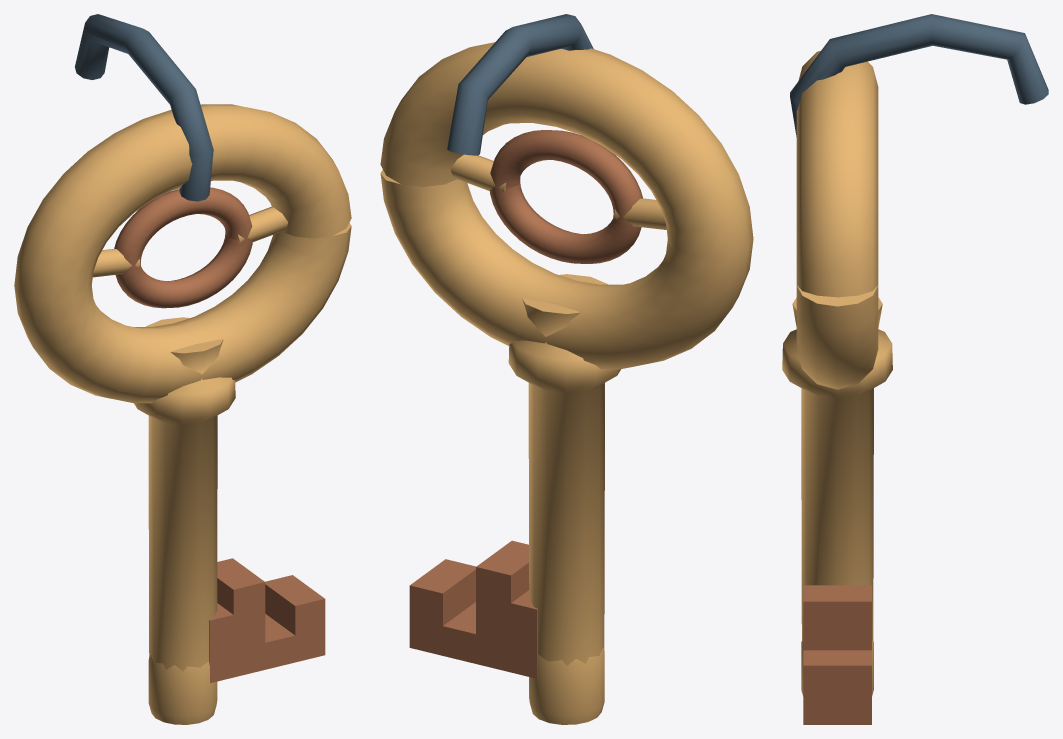
3 views of the same model, side by side, from view 1: azimuth 30°, elevation 25°; view 2: azimuth 150°, elevation 25°; view 3: azimuth 270°, elevation 25° (orthographic). The views are drawn at different scales.
Parts seen in each view (by area): view 1: PR147 enamel and hardware; view 2: PR147 enamel and hardware; view 3: PR147 enamel and hardware.
Part boxes in pixels (bbox=[...]): PR147 enamel and hardware: bbox=[14, 14, 351, 724]; PR147 enamel and hardware: bbox=[380, 14, 753, 724]; PR147 enamel and hardware: bbox=[782, 14, 1048, 724].
Size of the model in its own units: 0.0843 by 0.16 by 0.0565.
